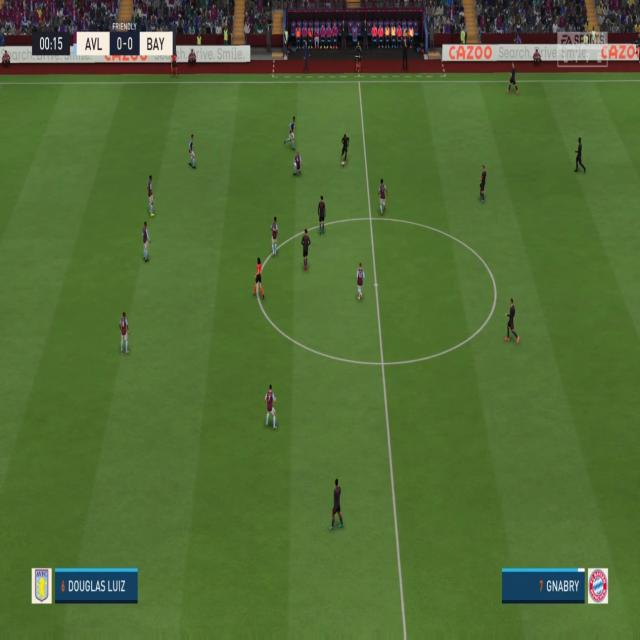Ball: (341, 162, 345, 167)
Referee: (253, 257, 267, 301)
Team-A: (328, 477, 343, 529), (504, 298, 520, 343), (573, 137, 586, 174), (300, 230, 312, 270), (508, 60, 519, 95), (316, 198, 326, 236), (478, 168, 488, 203), (340, 132, 350, 166)
Team-H: (264, 384, 278, 429), (119, 309, 132, 353), (378, 178, 390, 215), (147, 175, 157, 217), (357, 262, 367, 300), (143, 222, 152, 263), (285, 114, 296, 147), (270, 218, 280, 254), (187, 135, 197, 171), (293, 148, 302, 176)
person: (2, 51, 12, 66)
